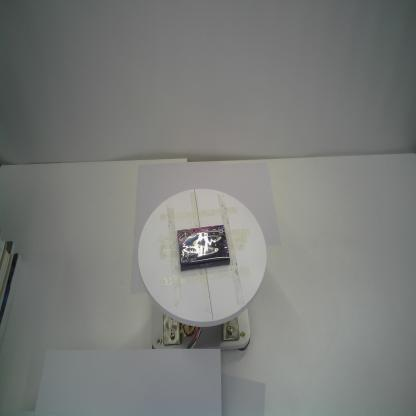Gum: (176, 224, 230, 272)
